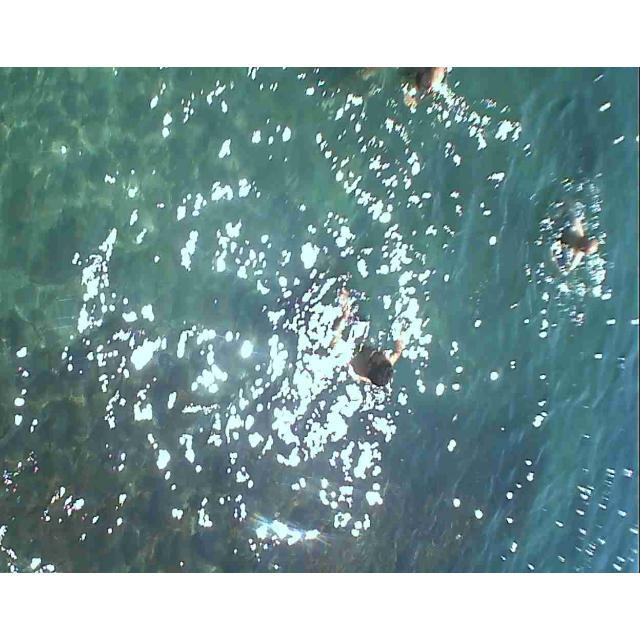human: (340, 285, 419, 397), (361, 67, 462, 125), (558, 207, 611, 270)
